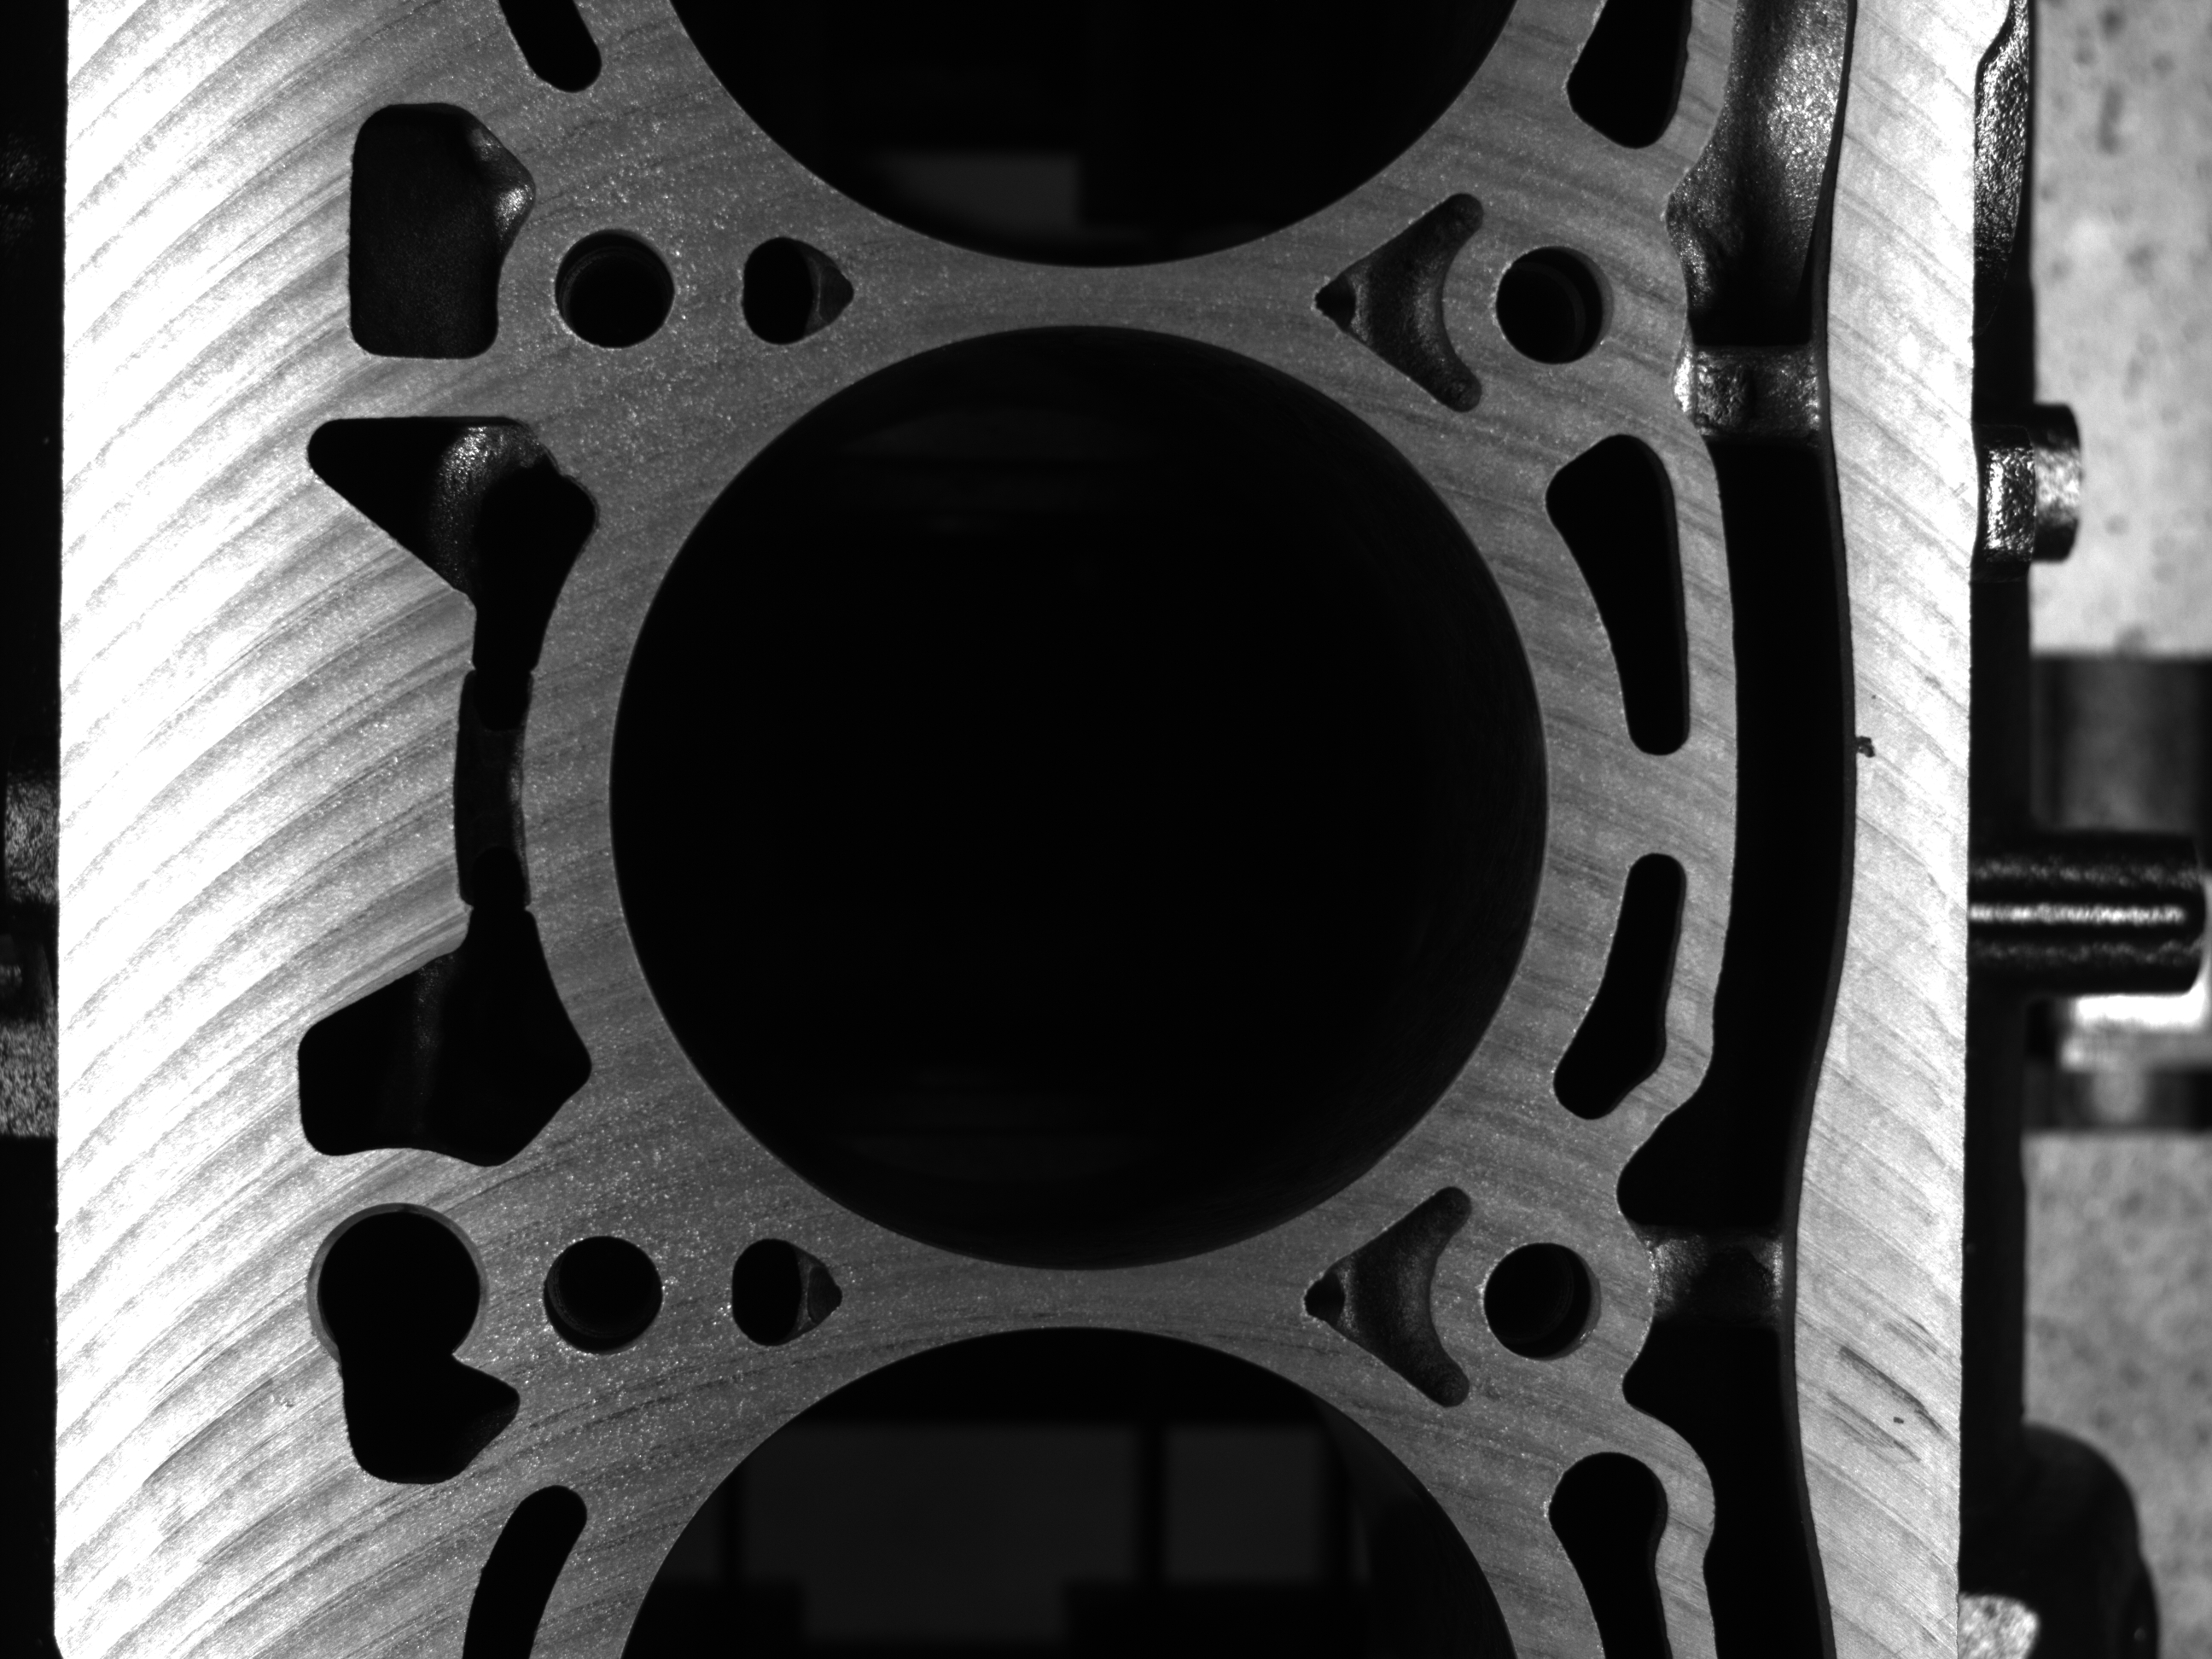sandhole: (1857, 720, 1881, 772)
